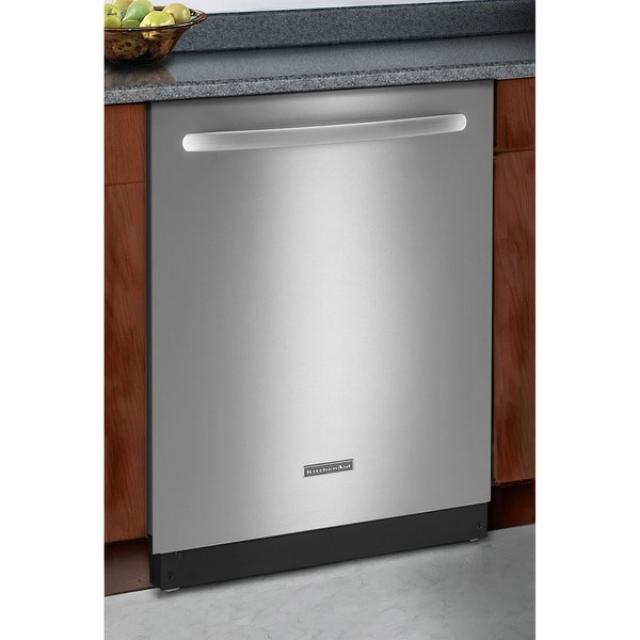dishwasher: (144, 70, 500, 591)
